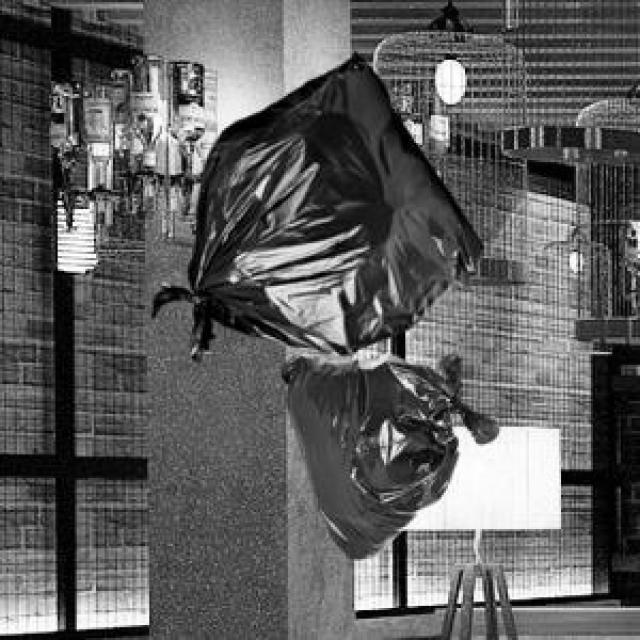miscellaneous trash: (147, 49, 478, 358), (277, 348, 495, 555)
